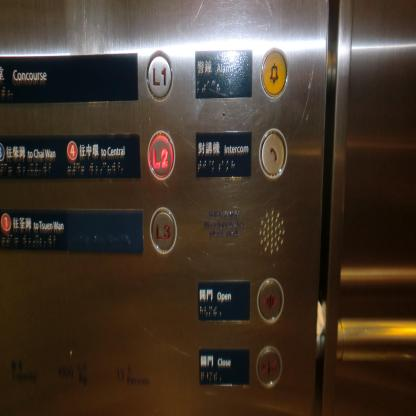L1: (146, 50, 174, 102)
L2: (147, 130, 175, 180)
L3: (150, 207, 177, 254)
alarm: (260, 47, 289, 99)
call: (258, 128, 288, 179)
close: (256, 345, 282, 388)
open: (257, 278, 285, 323)
